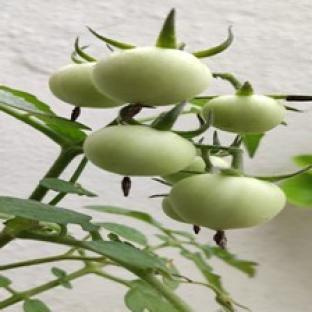Tomato: (92, 48, 211, 105), (169, 175, 285, 231), (84, 126, 196, 175), (49, 63, 123, 108), (202, 95, 285, 133), (162, 156, 206, 183), (162, 197, 185, 222)
